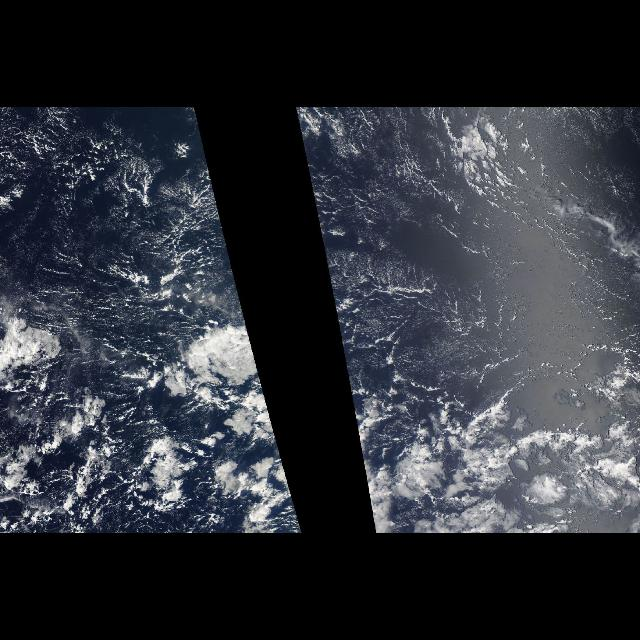Gravel: (314, 131, 640, 397), (0, 364, 184, 530), (112, 186, 205, 356)
Sugar: (324, 175, 466, 271)
